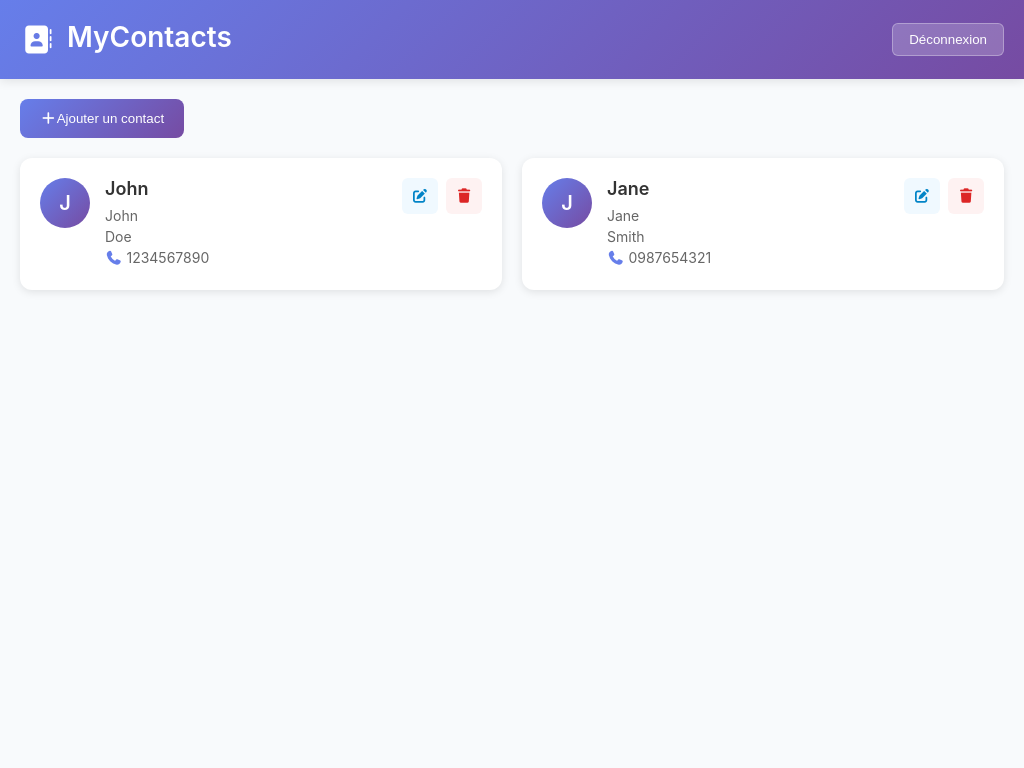
Contacts Component › Delete Contact › opens delete confirmation modal when delete button is clicked
The width and height of the screenshot is (1024, 768).
Expected: the heading "John" is shown, left=105, top=178, right=148, bottom=199
Step 1. Click the 1st button titled "Supprimer" → (464, 196), box left=446, top=178, right=482, bottom=214
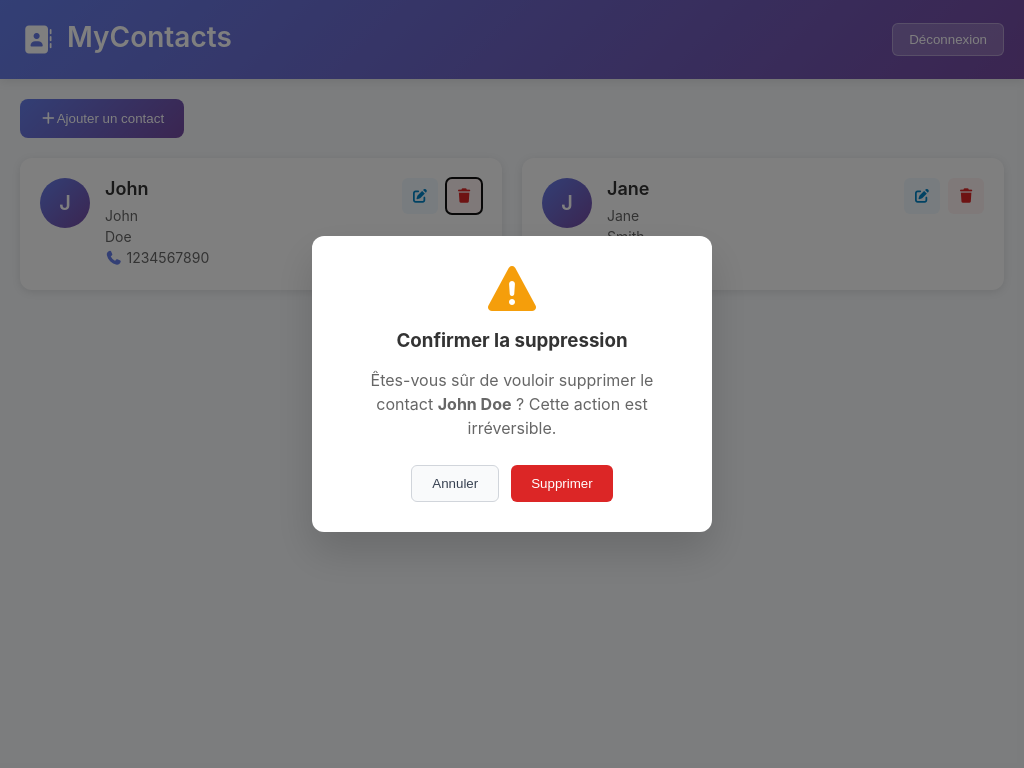
Expected: the heading "Confirmer la suppression" is shown, left=396, top=329, right=628, bottom=352
Expected: the text "Êtes-vous sûr de vouloir supprimer le contact" is shown, left=371, top=370, right=653, bottom=414
